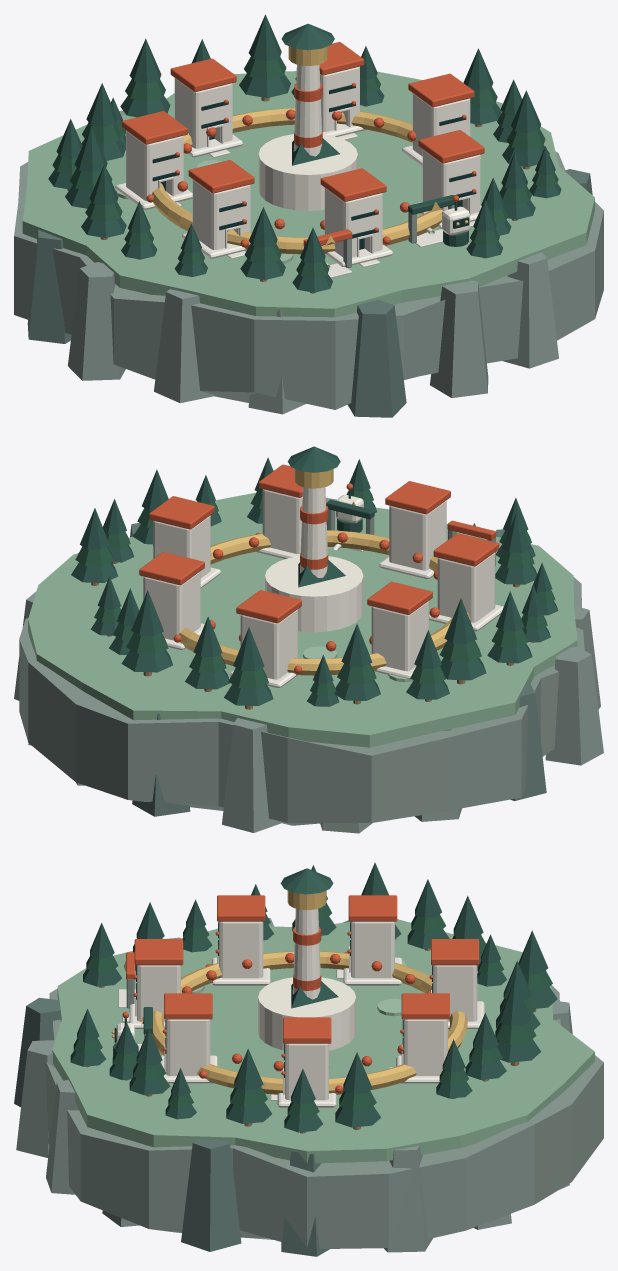
File: chapter-05.glb
3 views of the same model, one above another, from view 1: azimuth 30°, elevation 25°; view 2: azimuth 150°, elevation 25°; view 3: azimuth 270°, elevation 25° (orthographic).
Visible parts, largest first — view 1: terrain, rock_base, cliff_facet_12, cliff_facet_13, landmark_compass, landmark_ring, cliff_facet_09, cliff_facet_10, cliff_facet_14, cliff_facet_08, server_3, server_4 (+43 smaller); view 2: terrain, rock_base, cliff_facet_09, landmark_compass, cliff_facet_05, landmark_ring, server_4, server_5, server_3, server_1, server_2, server_6 (+43 smaller); view 3: terrain, rock_base, cliff_facet_16, landmark_ring, landmark_compass, cliff_facet_13, cliff_facet_01, server_4, server_3, server_6, server_1, cliff_facet_14 (+38 smaller).
Boxes of the visible parts, x1,y1,x2,y2 form: terrain: (22, 71, 594, 317); rock_base: (14, 151, 603, 409); cliff_facet_12: (348, 299, 406, 417); cliff_facet_13: (430, 280, 488, 397); landmark_compass: (258, 134, 357, 210); landmark_ring: (152, 108, 442, 254); cliff_facet_09: (67, 262, 125, 380); cliff_facet_10: (154, 289, 213, 403); cliff_facet_14: (503, 252, 558, 368); cliff_facet_08: (27, 230, 71, 343); server_3: (126, 130, 183, 201); server_4: (192, 179, 250, 249); terrain: (28, 492, 577, 747); rock_base: (19, 577, 584, 825); cliff_facet_09: (545, 646, 603, 765); landmark_compass: (265, 556, 363, 632); cliff_facet_05: (222, 718, 282, 832); landmark_ring: (179, 530, 470, 675); server_4: (437, 552, 495, 622); server_5: (389, 500, 446, 570); server_3: (371, 601, 428, 671); server_1: (143, 571, 200, 640); server_2: (240, 609, 297, 679); server_6: (262, 489, 302, 553); terrain: (52, 919, 594, 1163); rock_base: (46, 985, 603, 1248); cliff_facet_16: (181, 1139, 241, 1251); landmark_ring: (152, 951, 467, 1094); landmark_compass: (258, 977, 355, 1050); cliff_facet_13: (16, 1040, 55, 1157); cliff_facet_01: (384, 1145, 432, 1252); server_4: (219, 921, 263, 978); server_3: (351, 921, 394, 978); server_6: (166, 1019, 210, 1075); server_1: (403, 1019, 447, 1075); cliff_facet_14: (46, 1079, 78, 1194).
Size of the model in its own units: 11.93 by 6.42 by 12.04.
